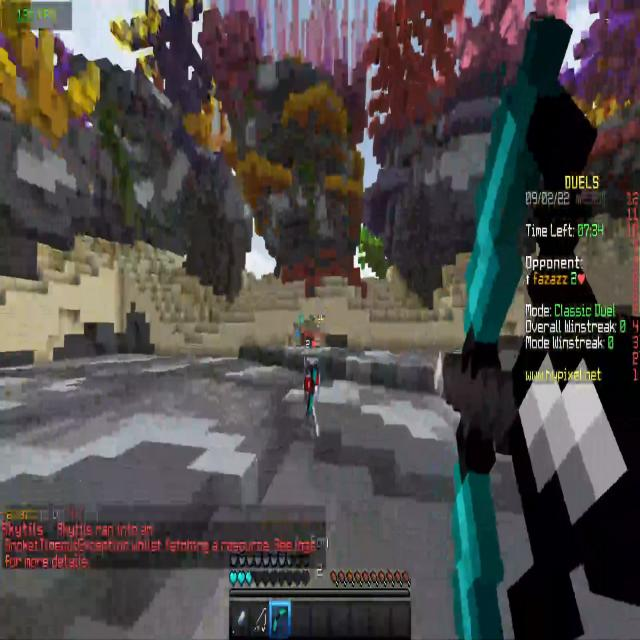Player: (301, 348, 323, 446)
